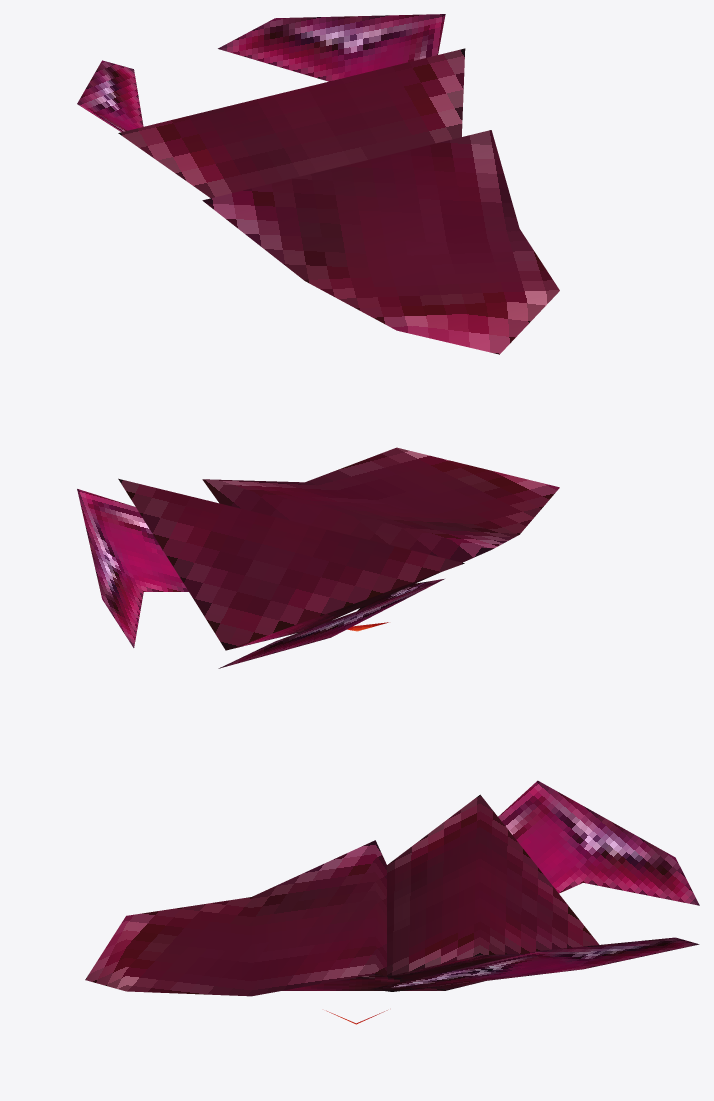
The model's file is rareitem_ticket8.glb.
The picture shows the model from 3 angles, top to bottom: view 1: azimuth 30°, elevation 25°; view 2: azimuth 150°, elevation 25°; view 3: azimuth 270°, elevation 25°; orthographic projection. The views are drawn at different scales.
Visible parts, largest first — view 1: model_rareitem_ticket8; view 2: model_rareitem_ticket8; view 3: model_rareitem_ticket8.
Boxes of the visible parts, box(x1,y1,x2,y2) form: model_rareitem_ticket8: box(77, 14, 559, 354); model_rareitem_ticket8: box(77, 447, 559, 668); model_rareitem_ticket8: box(85, 780, 699, 1024).
Bounding box in the file's own units: 0.5085 × 0.2029 × 0.7933.
Materials: 2 (2 with a texture image).
